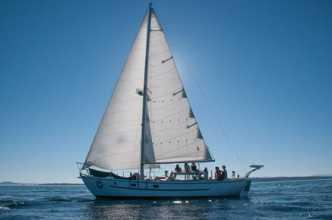fanchuan: (72, 4, 264, 198)
